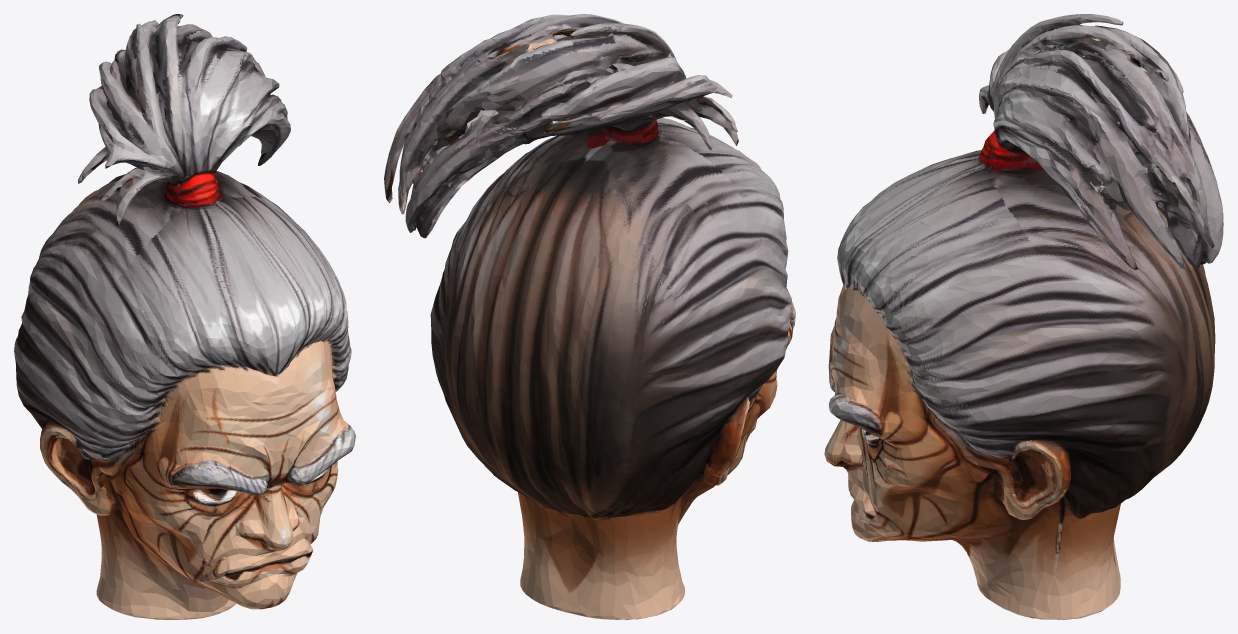
File: side_tomoe_repaired_atlas.glb
3 views of the same model, side by side, from view 1: azimuth 30°, elevation 25°; view 2: azimuth 150°, elevation 25°; view 3: azimuth 270°, elevation 25° (orthographic). The views are drawn at different scales.
Visible parts, largest first — view 1: temp_mesh.ply; view 2: temp_mesh.ply; view 3: temp_mesh.ply.
Part boxes in pixels (<box>): temp_mesh.ply: <box>14,14,355,619</box>; temp_mesh.ply: <box>384,14,795,619</box>; temp_mesh.ply: <box>824,14,1223,619</box>.
Size of the model in its own units: 0.7691 by 1.42 by 0.9044.
Materials: 1 (1 with a texture image).
